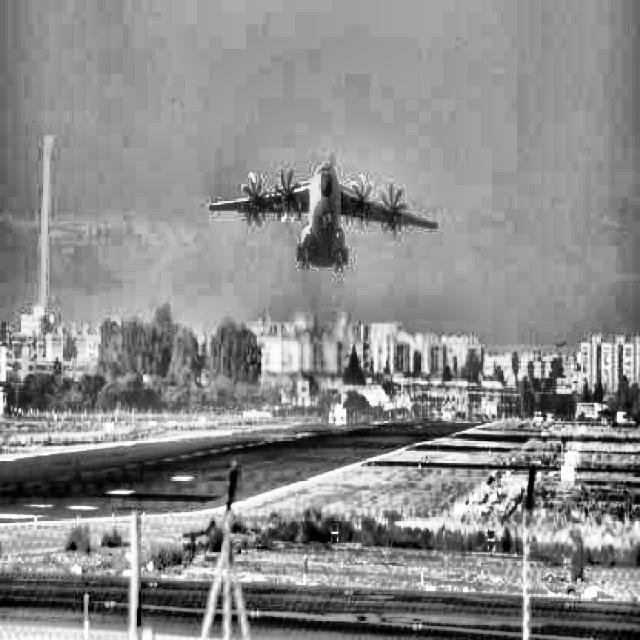A400M: (208, 154, 437, 272)
